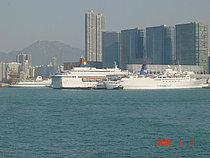Ship: (110, 74, 205, 93), (51, 69, 117, 94)
